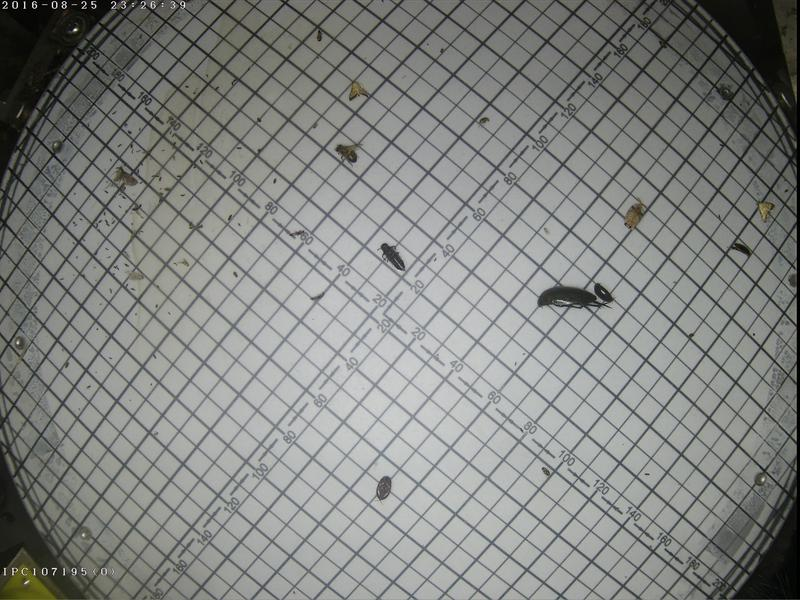Rice Leaf Roller: (347, 78, 368, 99), (756, 197, 773, 219)
